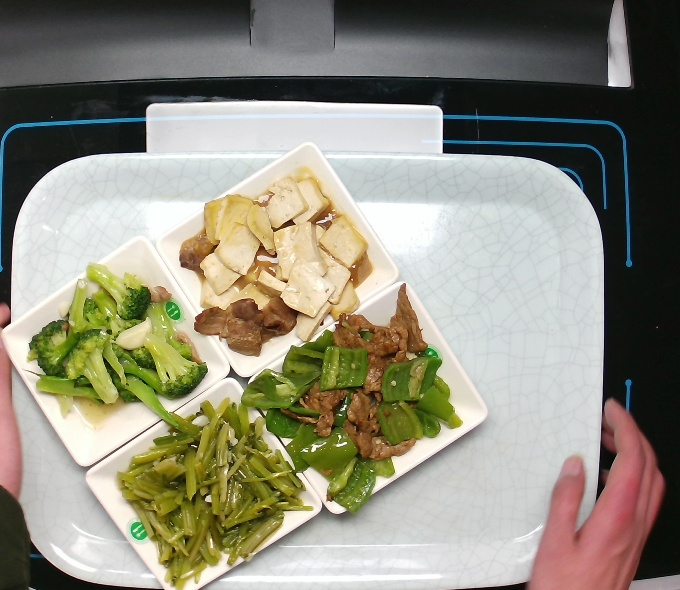wcq-DouFuRouPian: (177, 171, 379, 360)
wcq-QinCai: (111, 407, 301, 590)
wcq-QingJiaoChaoRou: (255, 285, 467, 516)
wcq-XiLanHua: (22, 256, 209, 418)
